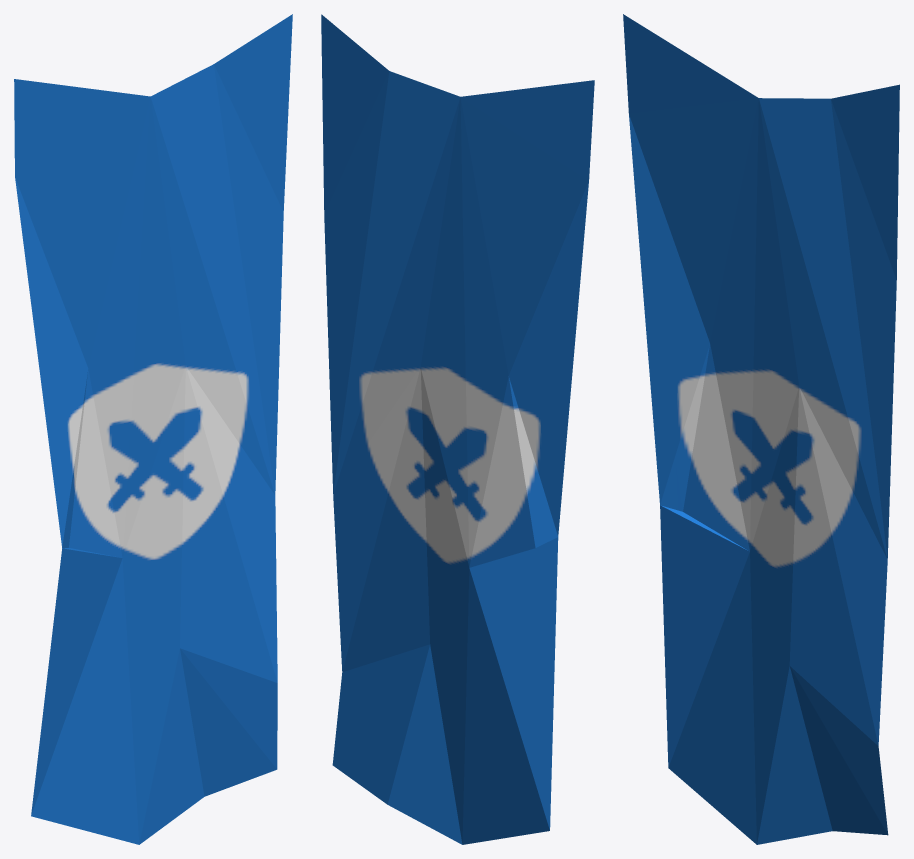
File: RG-Dungeon_Flag-01.fbx
The picture shows the model from 3 angles, left to right: view 1: azimuth 30°, elevation 25°; view 2: azimuth 150°, elevation 25°; view 3: azimuth 330°, elevation 25°; orthographic projection.
Visible parts, largest first — view 1: RG-Dungeon_Flag-01; view 2: RG-Dungeon_Flag-01; view 3: RG-Dungeon_Flag-01.
Part boxes in pixels (<box>): RG-Dungeon_Flag-01: <box>14,14,292,844</box>; RG-Dungeon_Flag-01: <box>321,14,594,844</box>; RG-Dungeon_Flag-01: <box>623,14,899,844</box>.
Size of the model in its own units: 4.45 by 12.27 by 0.5475.
